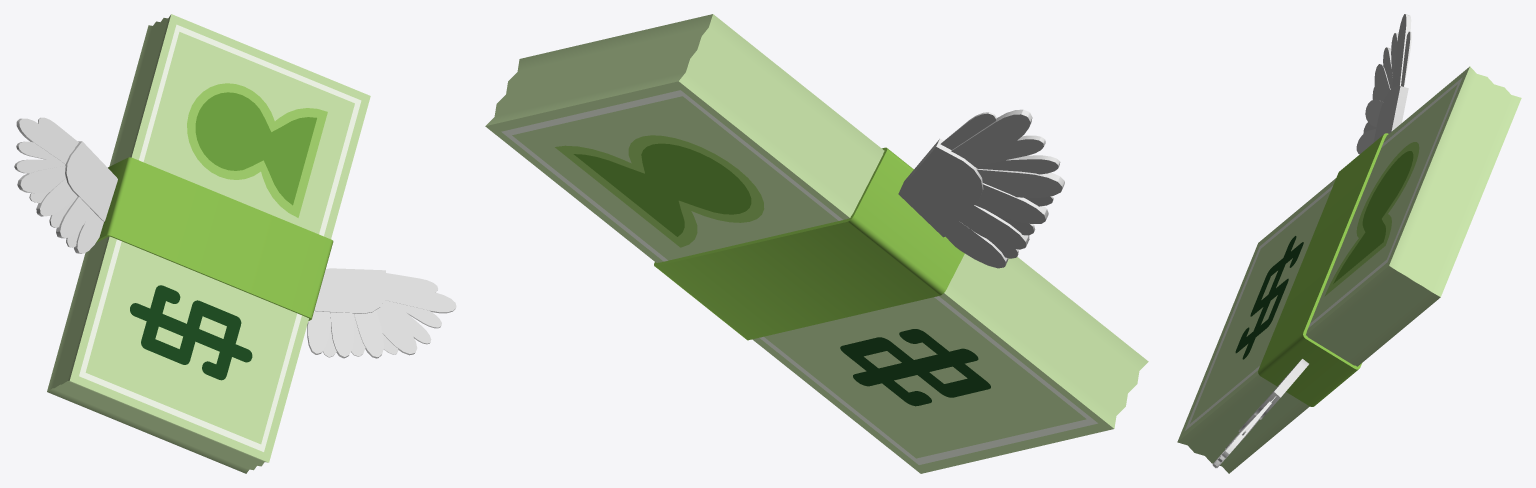
File: money_with_wings.glb
3 renders of one model, left to right at view 1: azimuth 30°, elevation 25°; view 2: azimuth 150°, elevation 25°; view 3: azimuth 270°, elevation 25°, orthographic. The views are drawn at different scales.
Visible parts, largest first — view 1: Cube.959, Cube.960; view 2: Cube.959, Cube.960; view 3: Cube.959, Cube.960.
Part boxes in pixels (box(x1,y1,x2,y2)): Cube.959: box(47, 14, 370, 473); Cube.960: box(14, 117, 456, 358); Cube.959: box(485, 14, 1148, 473); Cube.960: box(898, 109, 1064, 268); Cube.959: box(1177, 66, 1521, 473); Cube.960: box(1212, 14, 1411, 468).
Bounding box in the file's own units: 2.11 × 2.03 × 1.49.
Materials: 1 (1 with a texture image).
